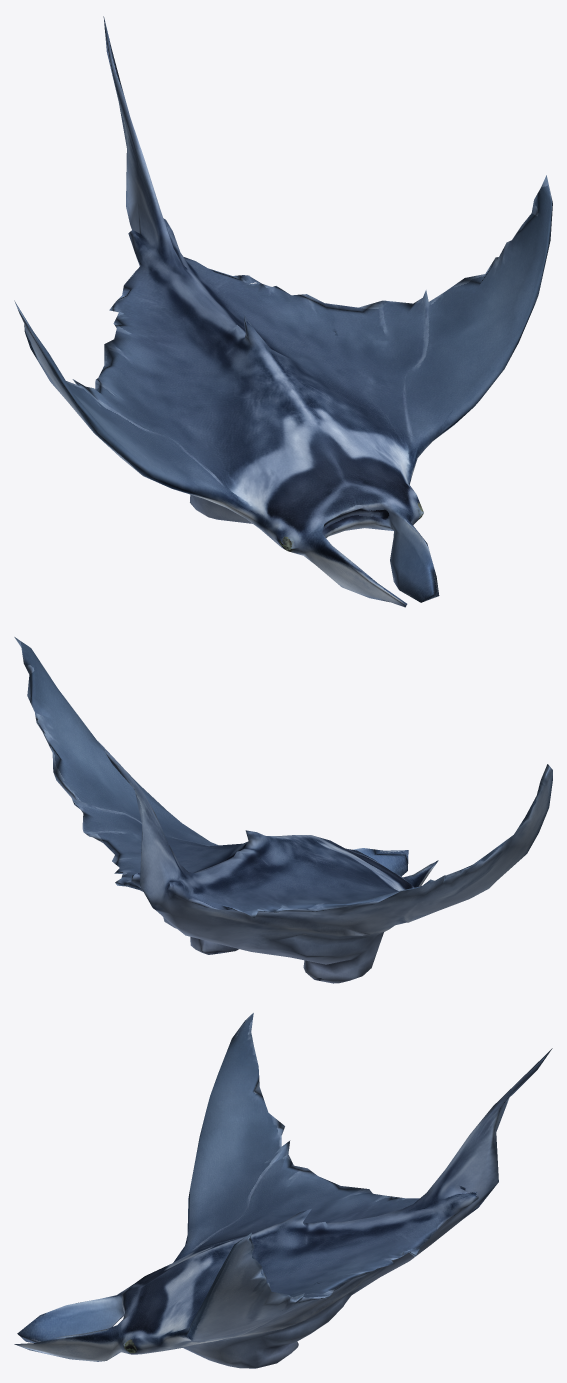
The model's file is phantom_single_1500.glb.
3 views of the same model, one above another, from view 1: azimuth 30°, elevation 25°; view 2: azimuth 150°, elevation 25°; view 3: azimuth 270°, elevation 25° (orthographic). The views are drawn at different scales.
Bounding box in the file's own units: 0.8434 × 0.5595 × 0.8866.
1 material, 1 textured.
